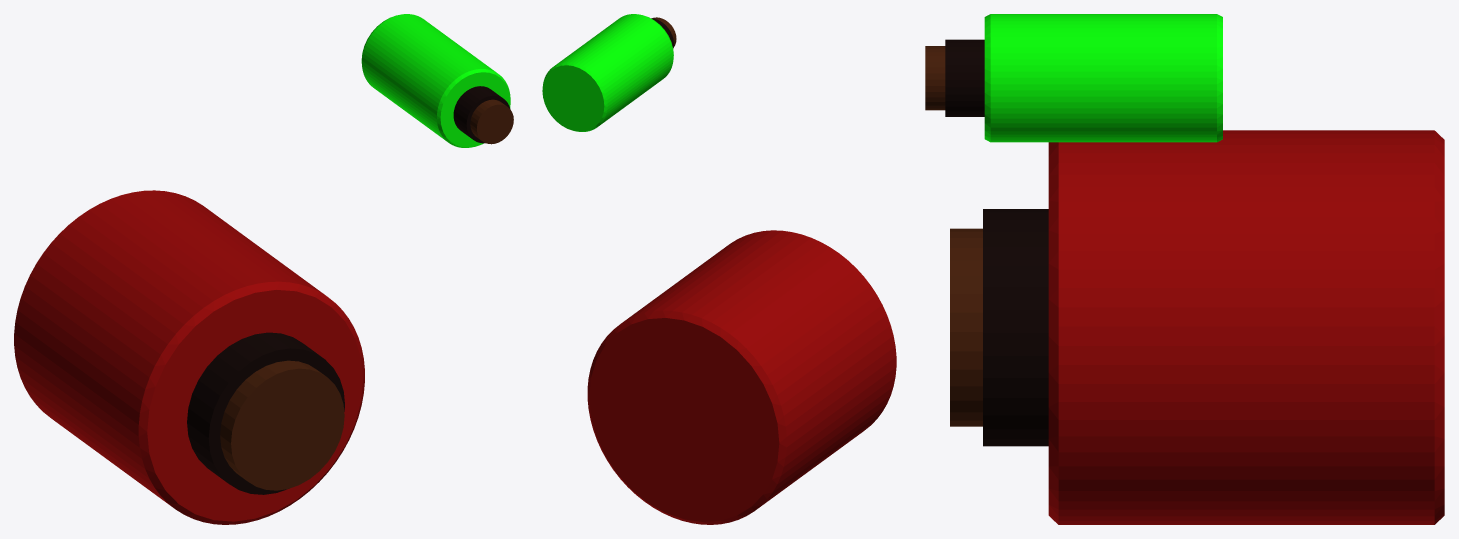
The model's file is HealthPotion.obj.
3 renders of one model, left to right at view 1: azimuth 30°, elevation 25°; view 2: azimuth 150°, elevation 25°; view 3: azimuth 270°, elevation 25°, orthographic. The views are drawn at different scales.
Visible parts, largest first — view 1: HealthPotion, SpeedPotion; view 2: HealthPotion, SpeedPotion; view 3: HealthPotion, SpeedPotion.
Boxes of the visible parts, x1,y1,x2,y2 form: HealthPotion: [14, 190, 364, 524]; SpeedPotion: [361, 14, 513, 147]; HealthPotion: [587, 230, 896, 524]; SpeedPotion: [542, 14, 676, 131]; HealthPotion: [950, 130, 1444, 524]; SpeedPotion: [925, 14, 1222, 142].
Size of the model in its own units: 3.07 by 3.53 by 2.62.
